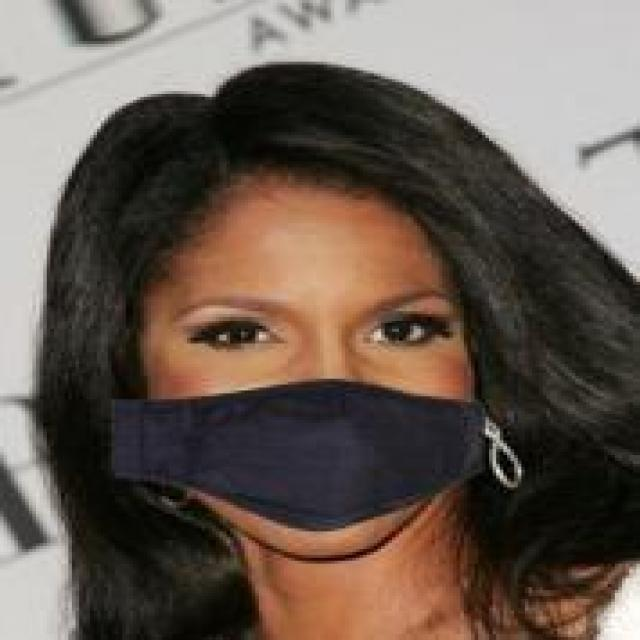mask: (86, 79, 579, 555)
